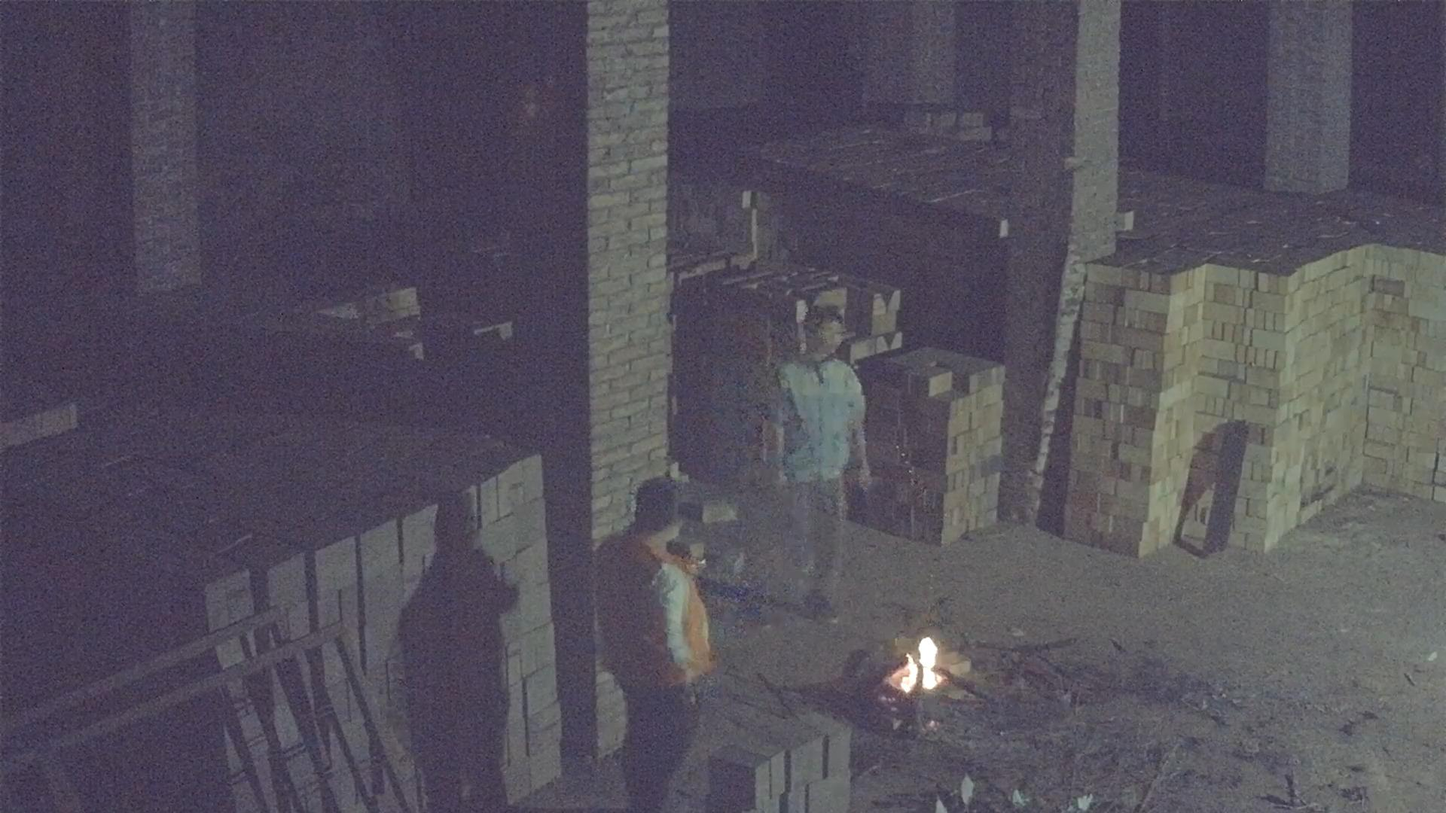fire: (895, 637, 941, 694)
